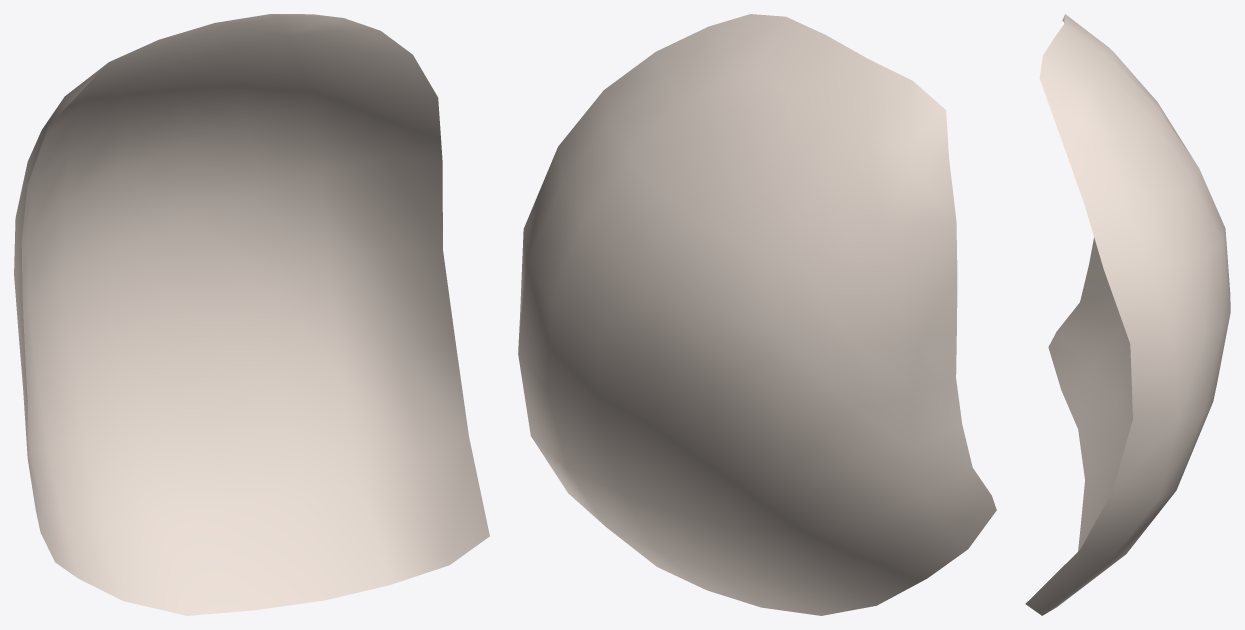
The model's file is frau2-1004.glb.
3 renders of one model, left to right at view 1: azimuth 30°, elevation 25°; view 2: azimuth 150°, elevation 25°; view 3: azimuth 270°, elevation 25°, orthographic. The views are drawn at different scales.
Parts seen in each view (by area): view 1: VH_F_medial_condyle_of_right_femur_inf; view 2: VH_F_medial_condyle_of_right_femur_inf; view 3: VH_F_medial_condyle_of_right_femur_inf.
Part boxes in pixels (x1=…): VH_F_medial_condyle_of_right_femur_inf: x1=14, y1=14, x2=489, y2=615; VH_F_medial_condyle_of_right_femur_inf: x1=518, y1=14, x2=996, y2=615; VH_F_medial_condyle_of_right_femur_inf: x1=1025, y1=14, x2=1230, y2=615.
Size of the model in its own units: 0.0269 by 0.0347 by 0.0128.
